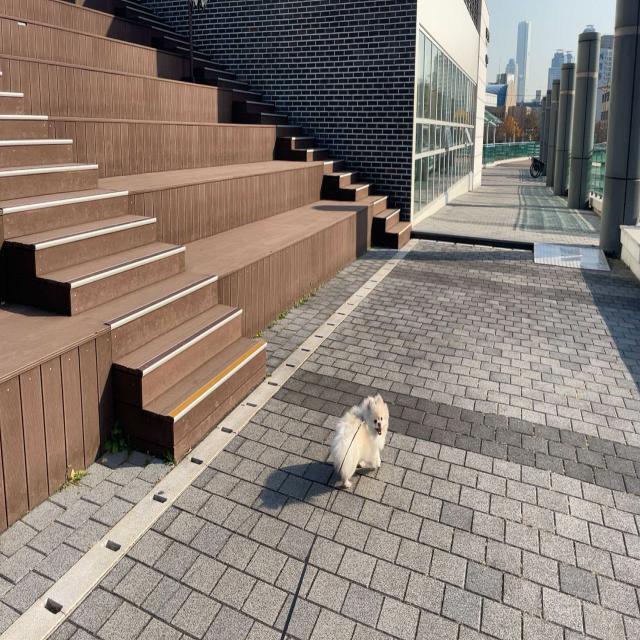Dog: (331, 392, 390, 489)
